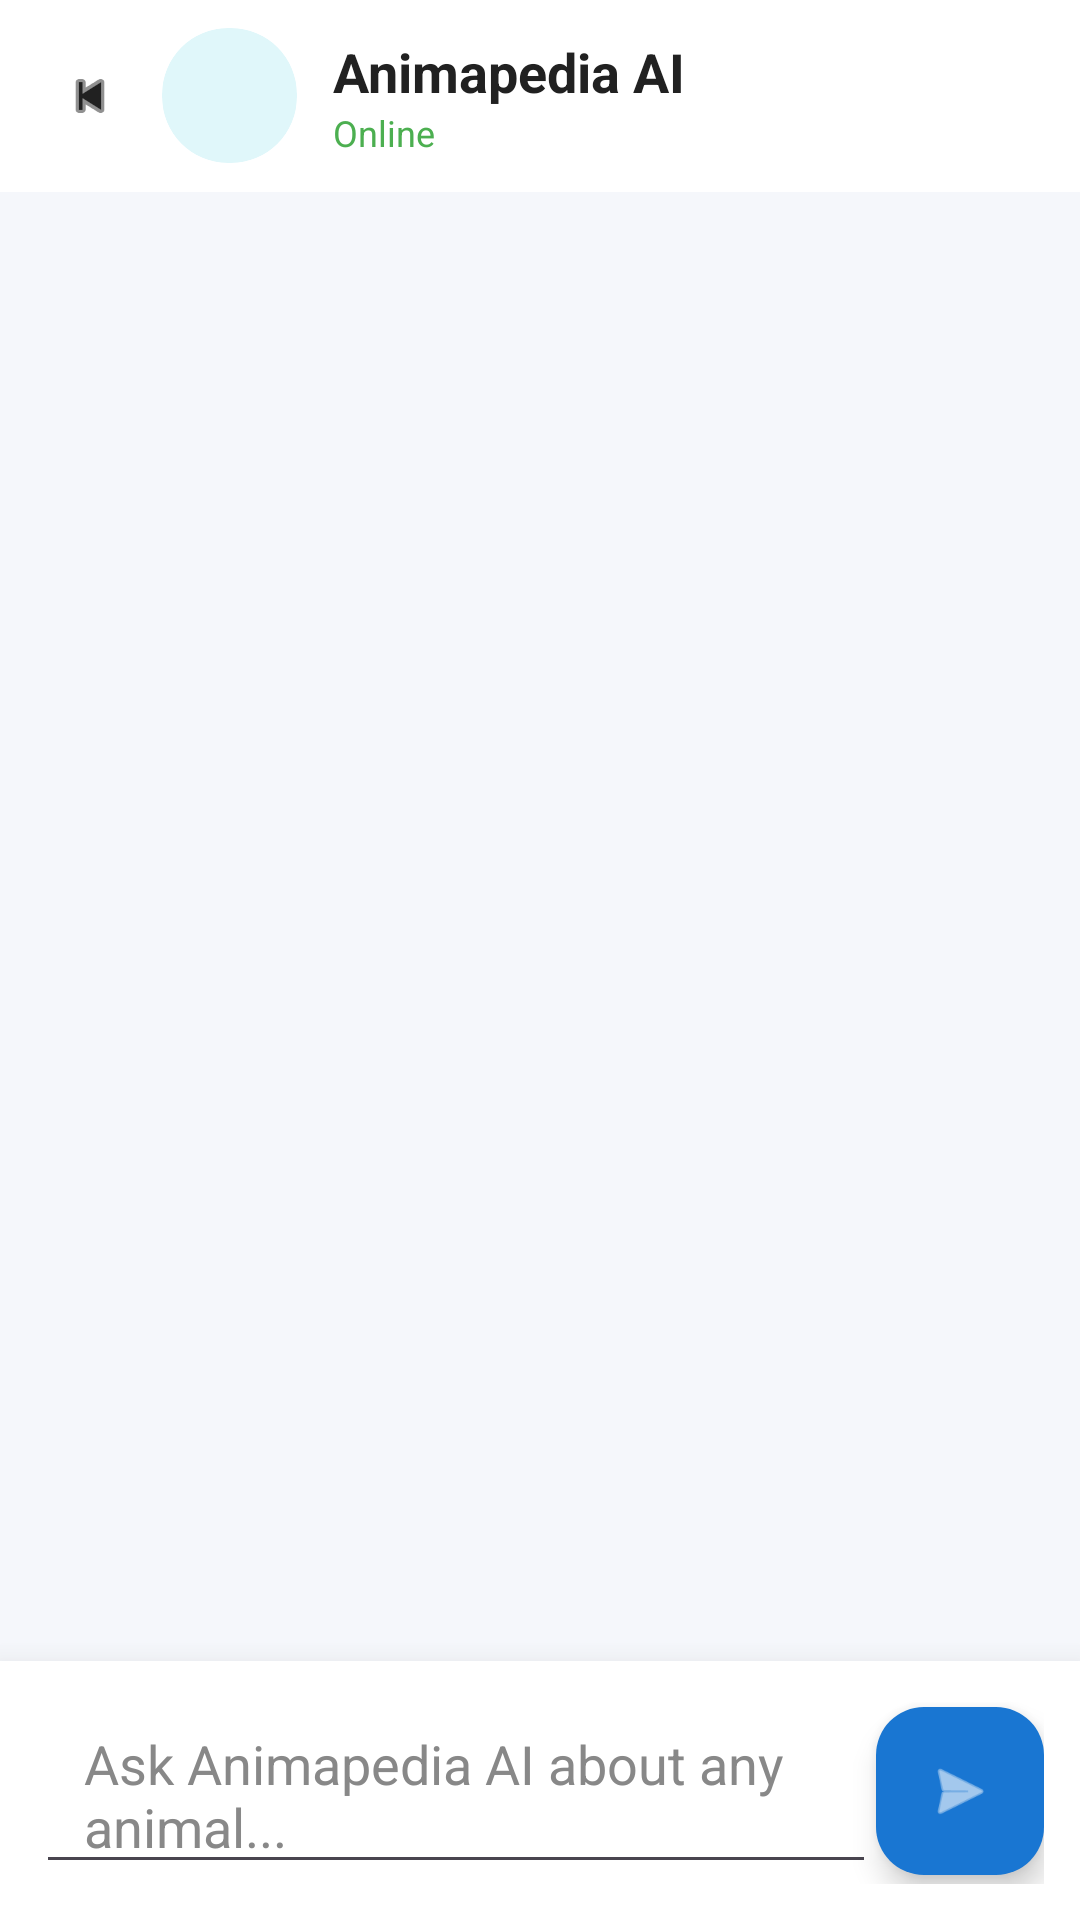

Icon click points for this 1080px×1920px phone screenshot, format (x=x, y=y):
previous: (x=90, y=96)
send: (x=960, y=1791)
